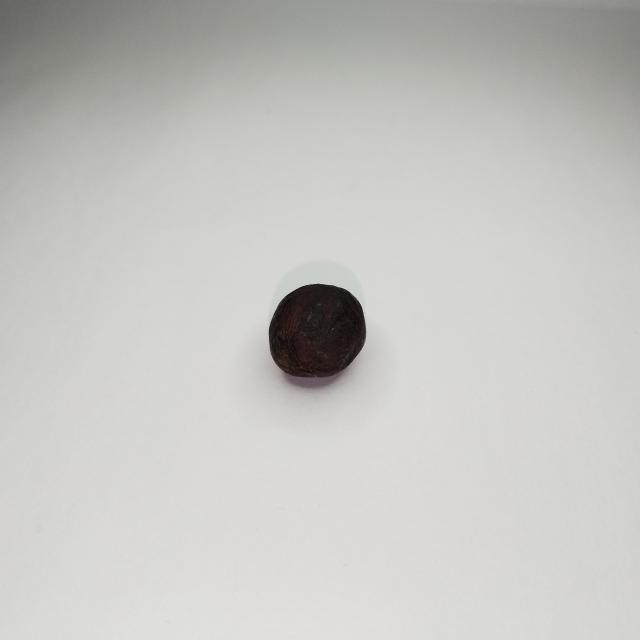Danado: (267, 281, 368, 382)
